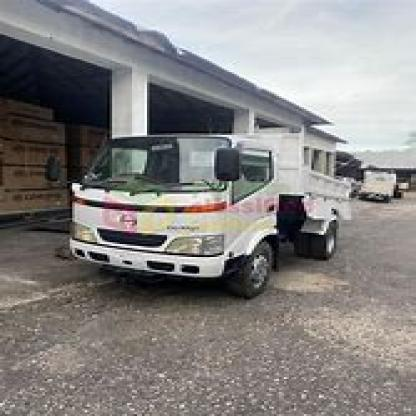dump_truck: (40, 111, 381, 311)
